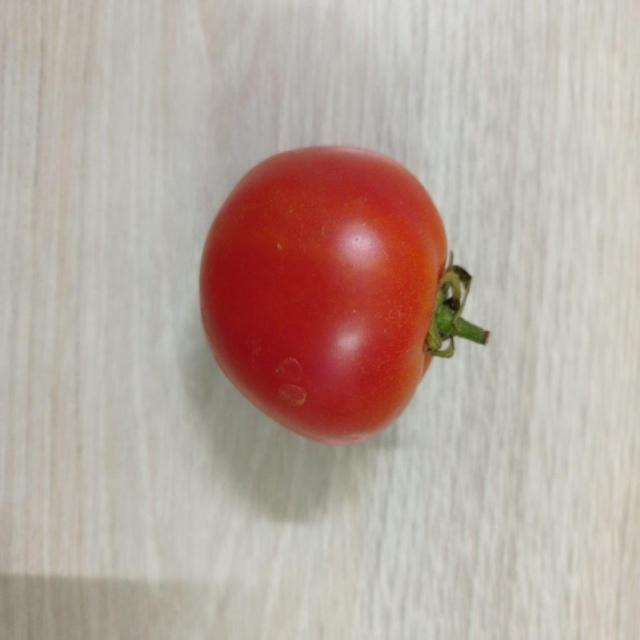Tomato: (197, 142, 492, 448)
